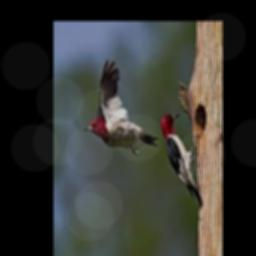Woodpecker: (83, 59, 158, 154), (159, 112, 202, 208)
